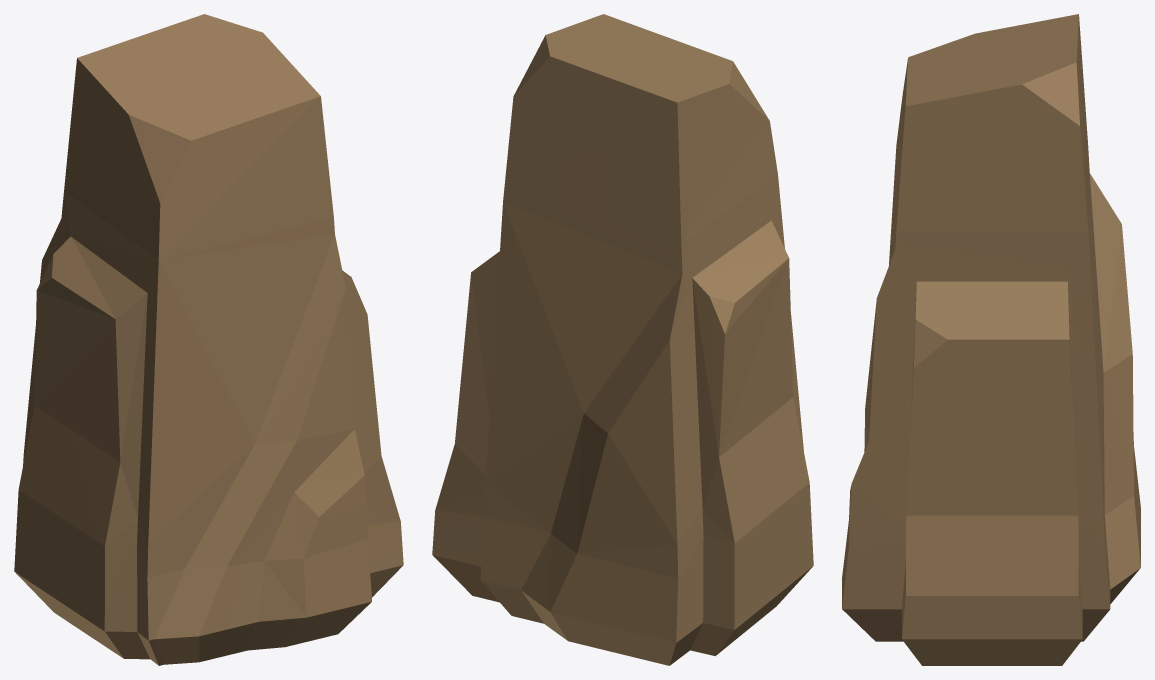
Rendered from SM_Env_Rock_010.gltf.
3 renders of one model, left to right at view 1: azimuth 30°, elevation 25°; view 2: azimuth 150°, elevation 25°; view 3: azimuth 270°, elevation 25°, orthographic.
Visible parts, largest first — view 1: SM_Env_Rock_010; view 2: SM_Env_Rock_010; view 3: SM_Env_Rock_010.
Part boxes in pixels (x1,y1,x2,y2): SM_Env_Rock_010: [14, 14, 403, 665]; SM_Env_Rock_010: [432, 14, 813, 665]; SM_Env_Rock_010: [842, 14, 1140, 665].
Bounding box in the file's own units: 0.7787 × 1.39 × 0.6668.
1 material, 1 textured.
